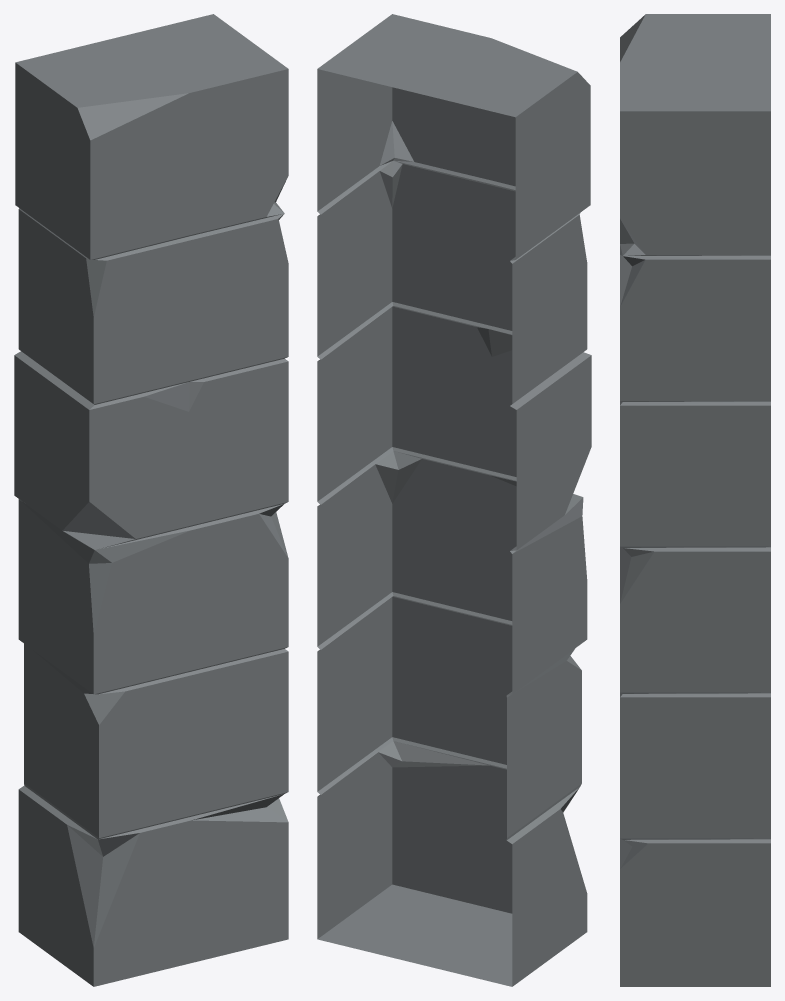
Rendered from Pilier_A.FBX.
3 views of the same model, side by side, from view 1: azimuth 30°, elevation 25°; view 2: azimuth 150°, elevation 25°; view 3: azimuth 270°, elevation 25° (orthographic).
Visible parts, largest first — view 1: Pilier_A; view 2: Pilier_A; view 3: Pilier_A.
Boxes of the visible parts, x1,y1,x2,y2 form: Pilier_A: (14,14,288,986); Pilier_A: (317,14,591,986); Pilier_A: (620,14,770,986).
Bounding box in the file's own units: 61.35 × 256 × 40.
Materials: 1 (1 with a texture image).
